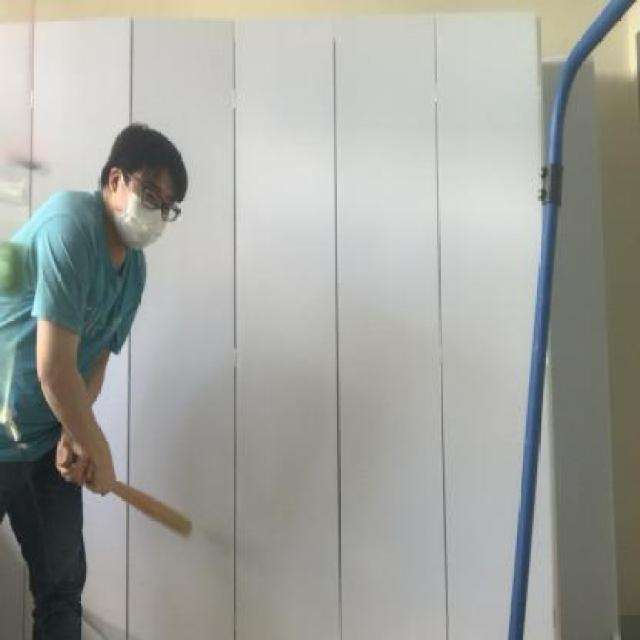baseball: (0, 233, 37, 296)
